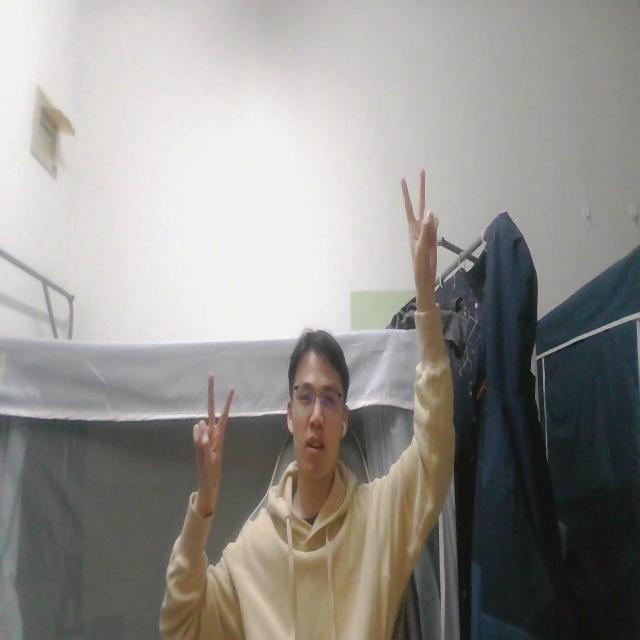yes: (397, 162, 445, 305), (190, 368, 238, 505)
